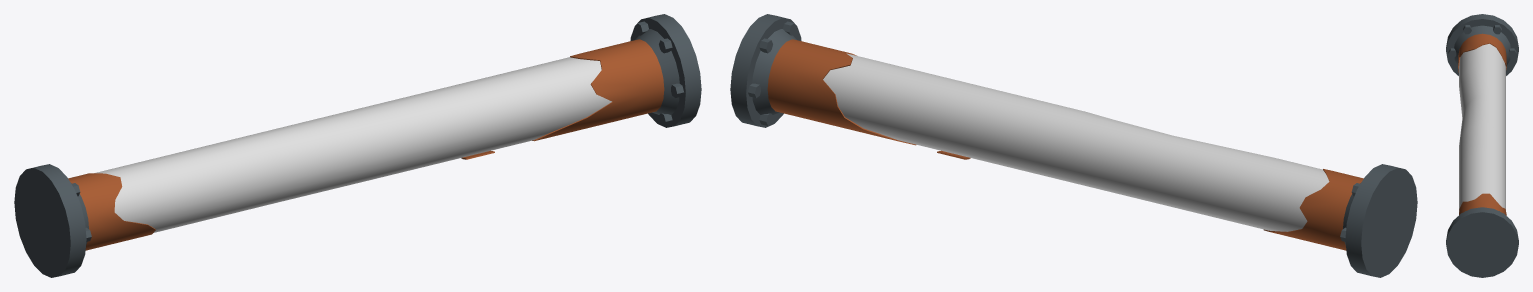
File: pipe_straight_2m.glb
The picture shows the model from 3 angles, left to right: view 1: azimuth 30°, elevation 25°; view 2: azimuth 150°, elevation 25°; view 3: azimuth 270°, elevation 25°; orthographic projection. The views are drawn at different scales.
Visible parts, largest first — view 1: Pipe; view 2: Pipe; view 3: Pipe.
Boxes of the visible parts, x1,y1,x2,y2 form: Pipe: [14, 14, 701, 277]; Pipe: [730, 14, 1417, 277]; Pipe: [1446, 14, 1518, 277].
Size of the model in its own units: 2 by 0.31 by 0.31.
